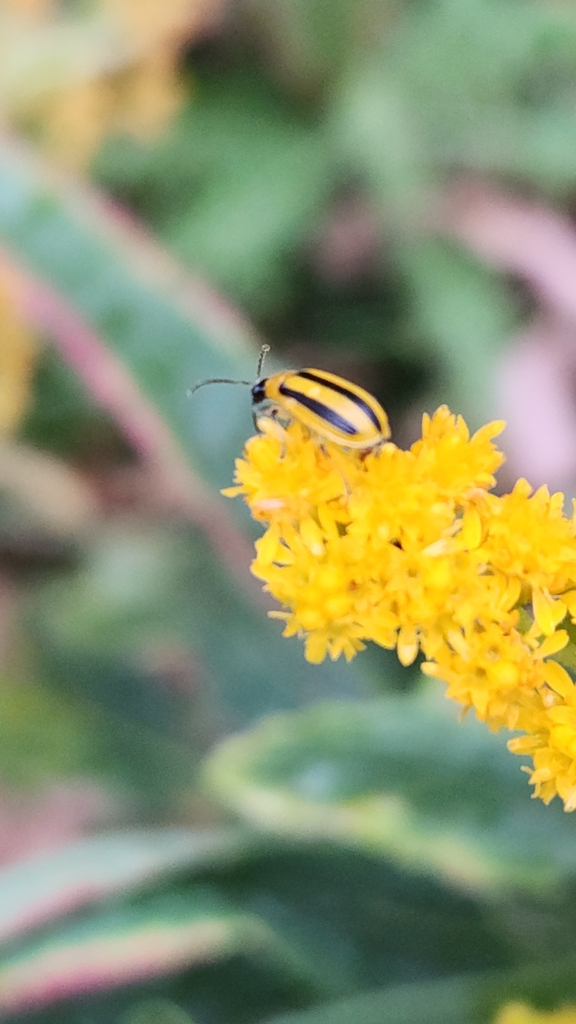potato_beetle: (164, 304, 429, 528)
